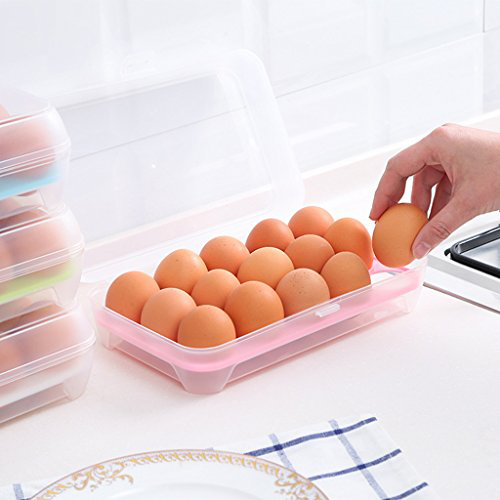egg: (101, 203, 372, 351), (371, 203, 428, 273)
